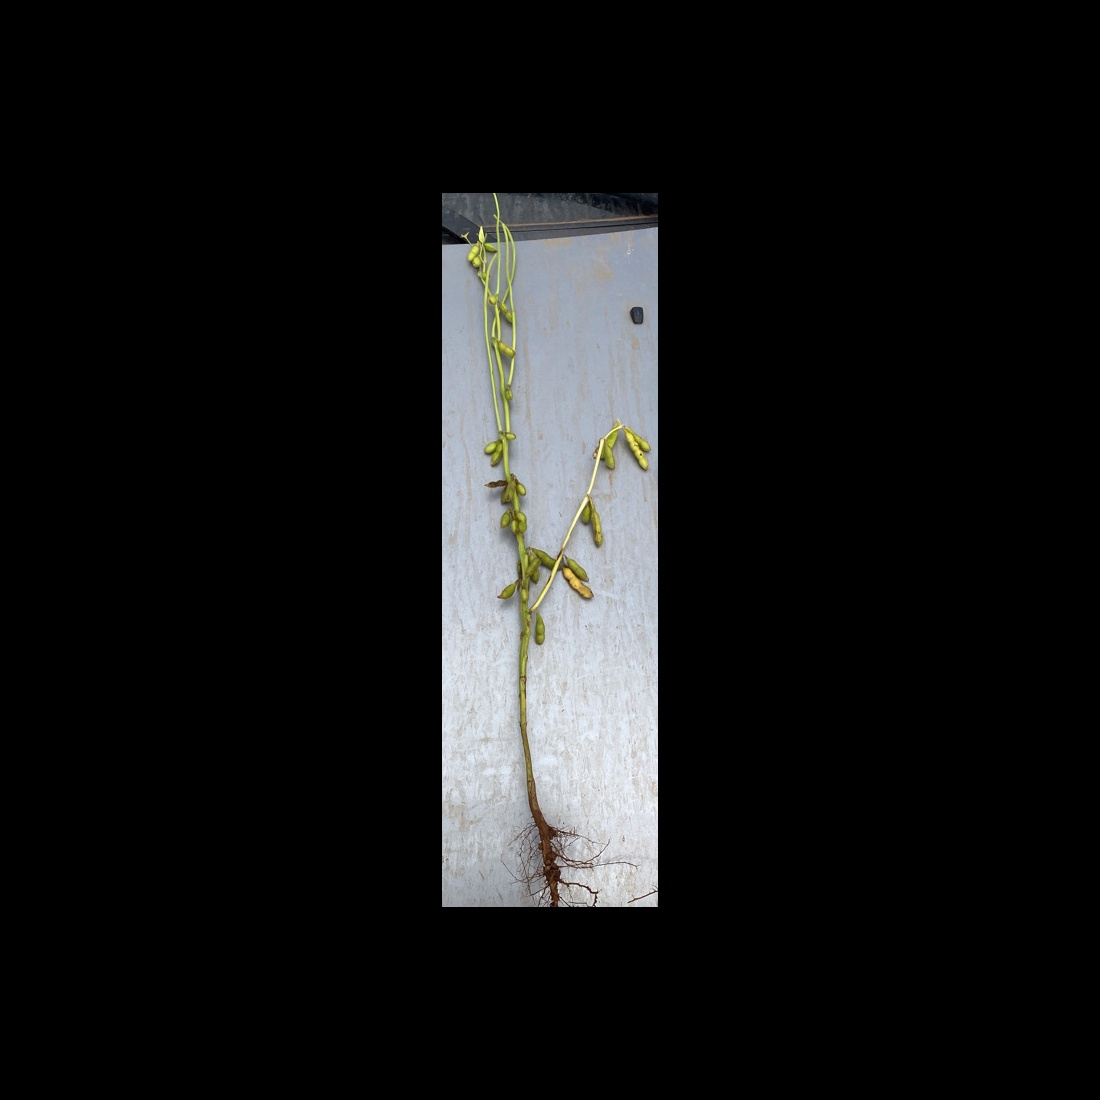pod: (497, 579, 520, 603), (591, 512, 604, 552), (495, 337, 517, 358), (532, 612, 545, 645), (501, 300, 516, 325), (605, 444, 617, 475), (497, 510, 513, 528), (518, 513, 529, 533), (483, 479, 507, 488), (484, 242, 499, 254)
soy: (458, 203, 653, 868)
